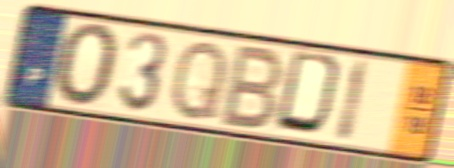3: (115, 30, 169, 116)
B: (217, 42, 287, 133)
D: (271, 47, 349, 141)
I: (333, 56, 372, 147)
O: (52, 20, 123, 112)
Q: (168, 37, 231, 123)
